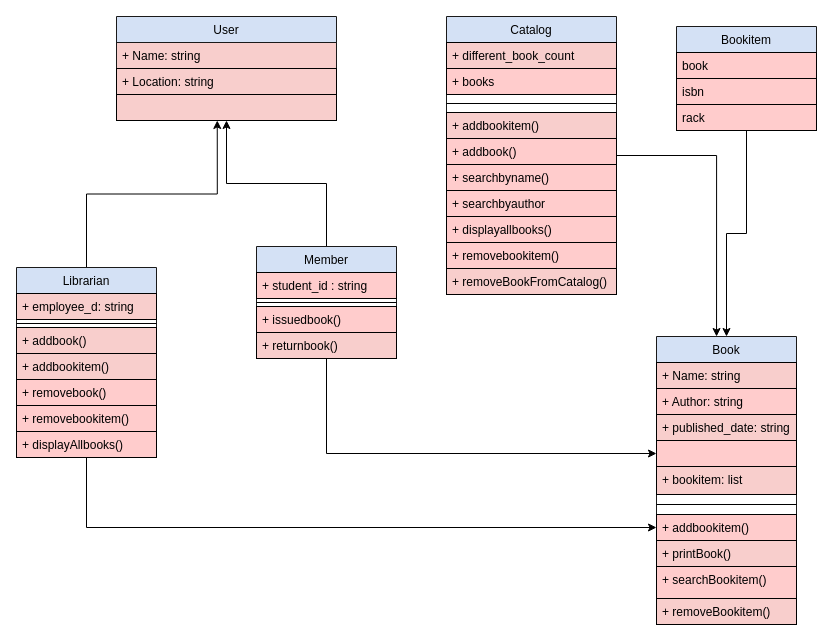
Some shapes in this 833 by 641 pixel diagram are drawn without their labels. Each missing label, with the centre of its shape:
"+ Age: int" belongs at [226,107].
"+ Total_count: int" belongs at [726,453].
